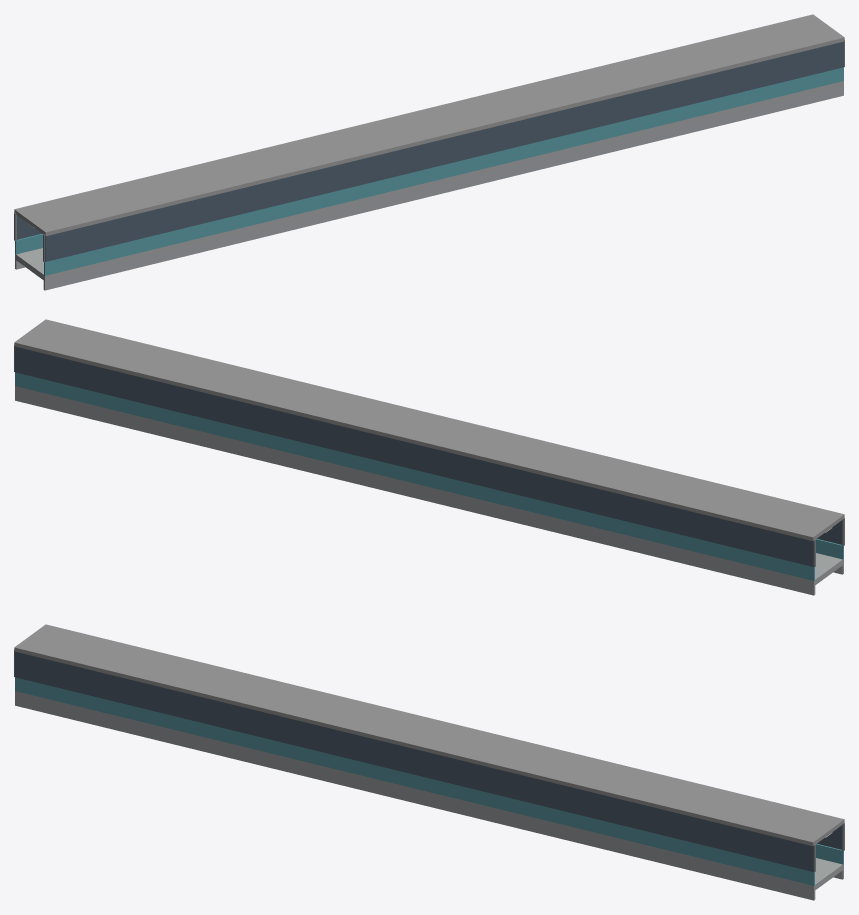
The model's file is hosp-bridge-54.mega-v1.lod0.glb.
3 views of the same model, one above another, from view 1: azimuth 30°, elevation 25°; view 2: azimuth 150°, elevation 25°; view 3: azimuth 330°, elevation 25° (orthographic).
Parts seen in each view (by area): view 1: hosp-bridge-54; view 2: hosp-bridge-54; view 3: hosp-bridge-54.
Boxes of the visible parts, x1,y1,x2,y2 form: hosp-bridge-54: (14,14,844,290); hosp-bridge-54: (14,319,844,595); hosp-bridge-54: (14,624,844,900).
Bounding box in the file's own units: 54.12 × 3.8 × 3.7.
